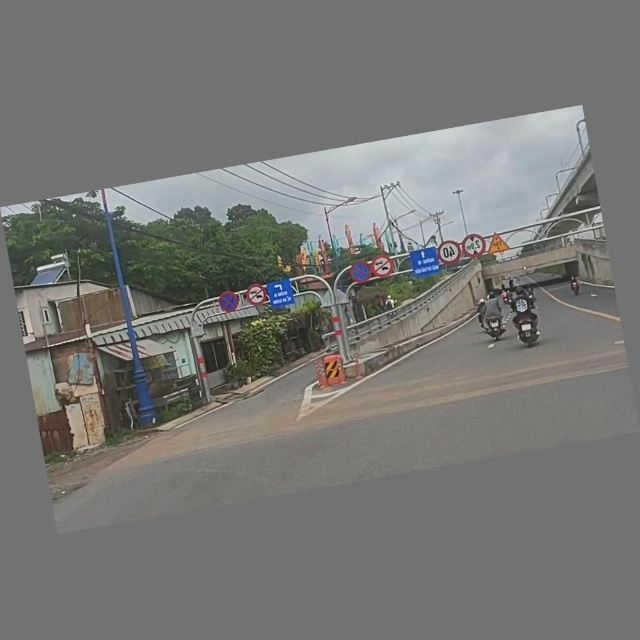P.107: (369, 253, 396, 279), (244, 282, 268, 308)
P.117*: (459, 232, 488, 261)
P.127*40: (435, 239, 462, 267)
P.130: (347, 259, 374, 286), (216, 289, 240, 316)
W.239b*: (484, 230, 513, 256)
